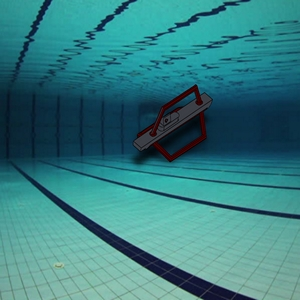submarine: (119, 75, 214, 174)
